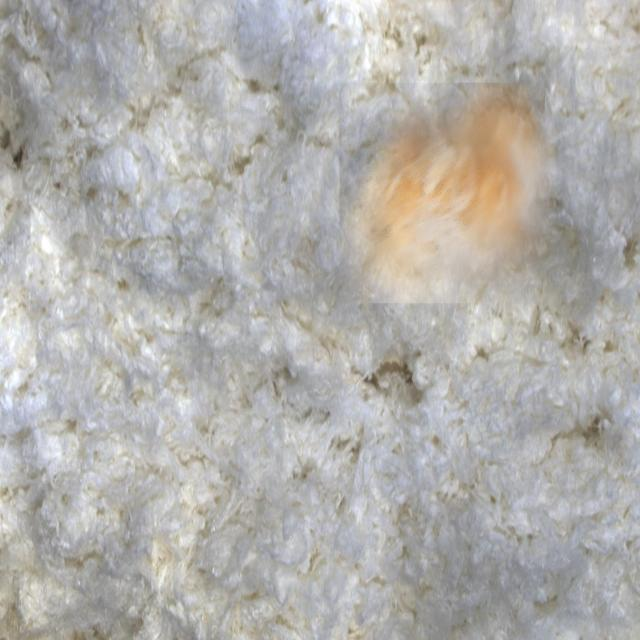dust: (340, 83, 556, 303)
